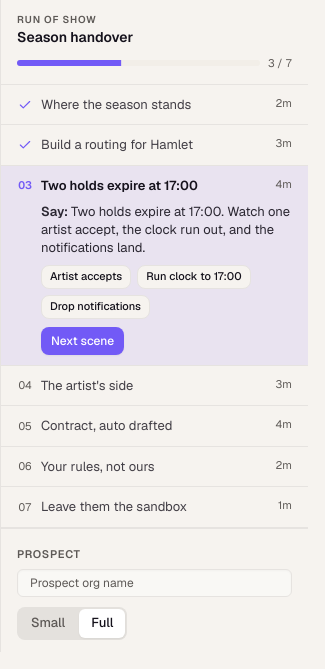
RunOfShowRail › shows a pending state and disables the cue buttons while a cue is in flight
Click the button "Artist accepts" at (86, 277), box [41,265,131,289]
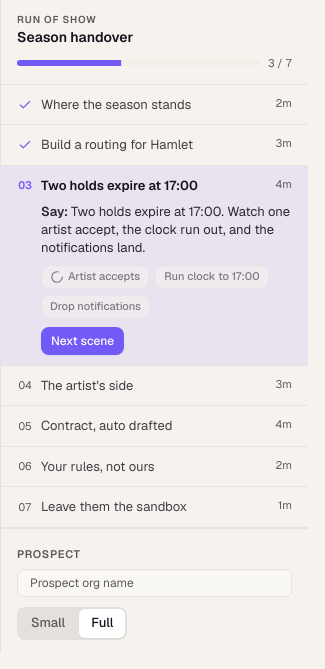
Result: the button "Drop notifications" is disabled at [41,295,150,319]
